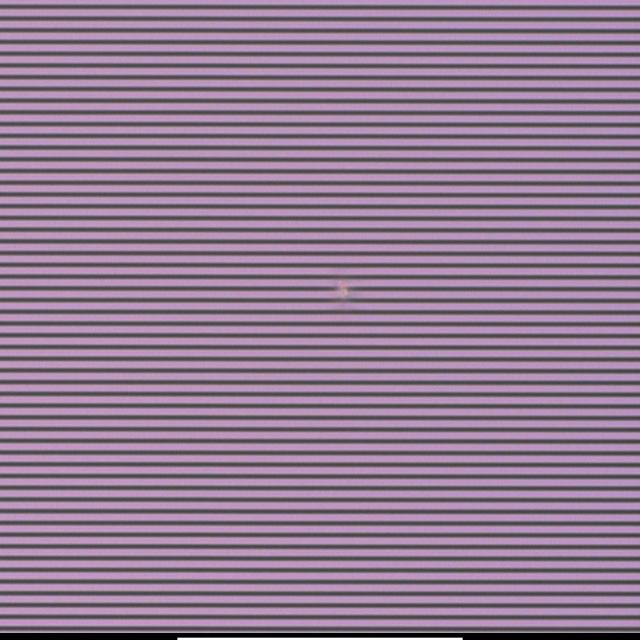nonvisual: (337, 275, 352, 301)
